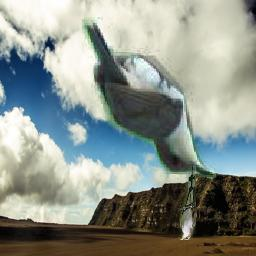Cuckoo: (82, 17, 216, 179), (178, 162, 196, 240)
